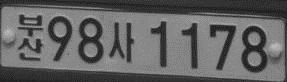1: (178, 22, 206, 69), (147, 20, 174, 68)
7: (209, 24, 236, 70)
8: (240, 24, 268, 73), (76, 16, 104, 64)
9: (46, 14, 73, 61)
부산_V: (17, 14, 43, 61)
사: (108, 21, 134, 63)
